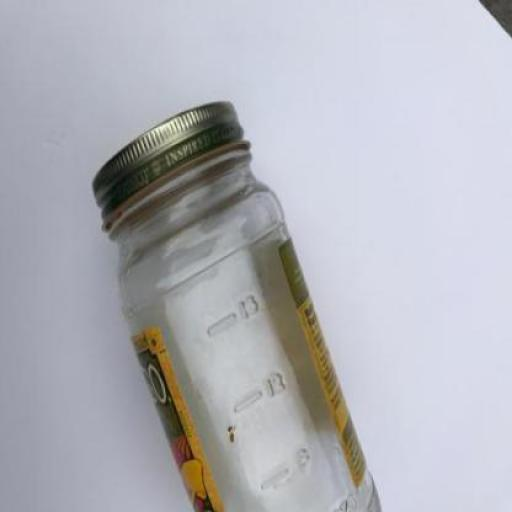glass: (110, 150, 382, 512)
metal: (94, 104, 246, 231)
